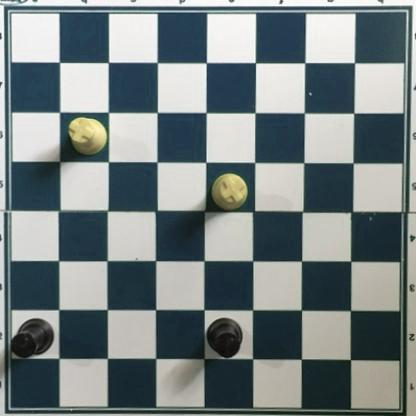black-rook: (10, 316, 57, 358), (205, 315, 244, 358)
white-rook: (68, 111, 107, 157), (205, 171, 248, 211)
